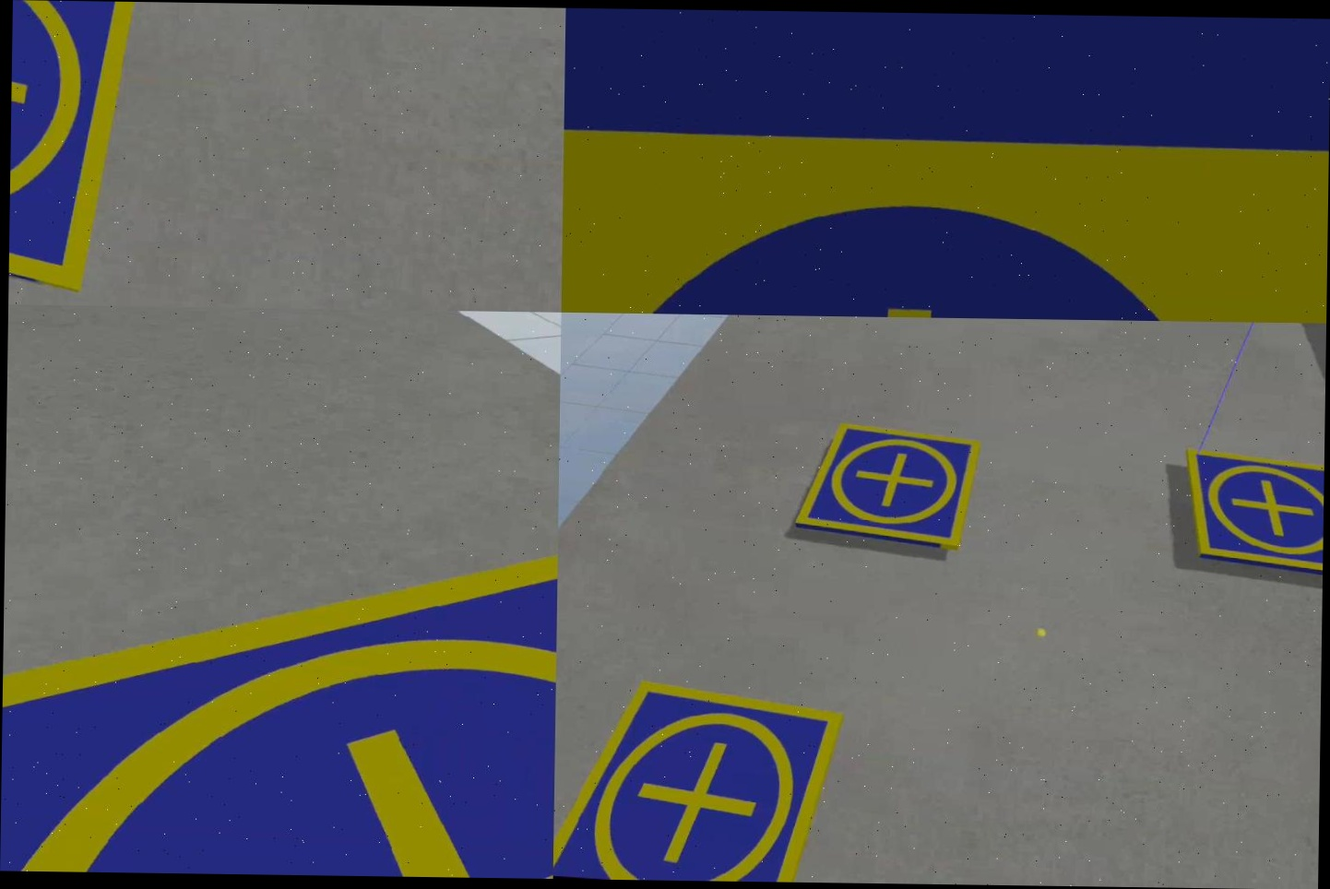large_base: (562, 8, 1330, 324)
small_base: (0, 491, 559, 878), (553, 677, 843, 882), (8, 0, 146, 299), (794, 420, 980, 552), (1180, 448, 1324, 587)
